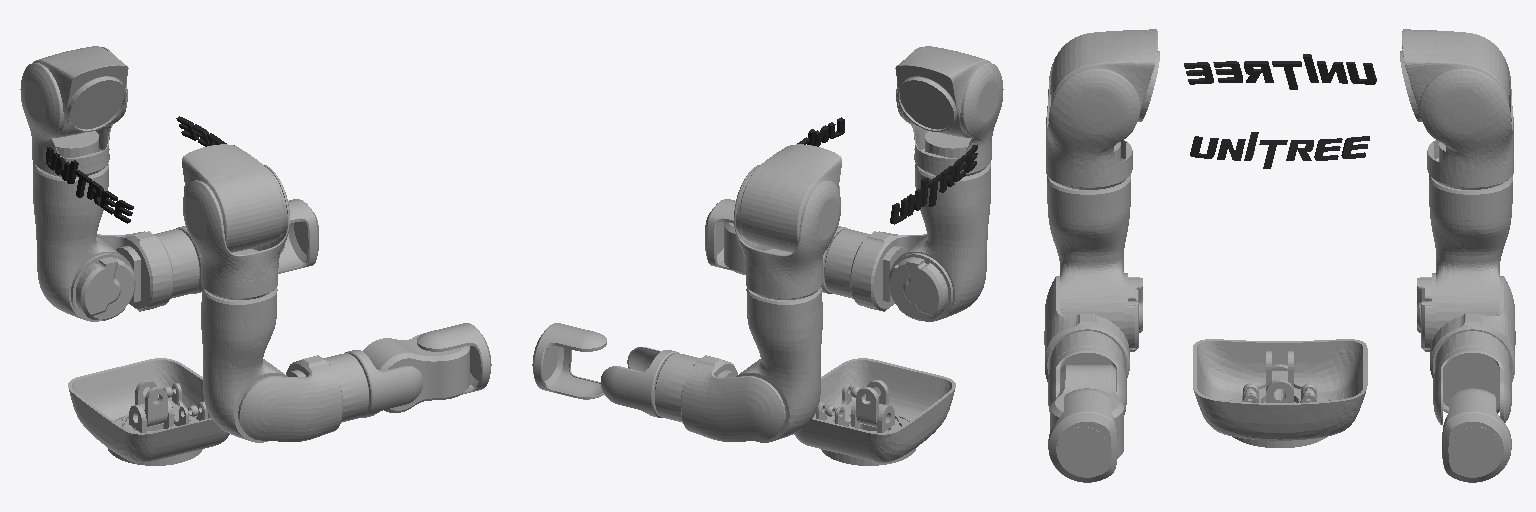
--- Render facts (derived) ---
3 views of the same robot in one strip: view 1: azimuth 30°, elevation 25°; view 2: azimuth 150°, elevation 25°; view 3: azimuth 270°, elevation 25° (orthographic).
Robot: g1_29dof — 26 links, 25 joints (7 revolute, 18 fixed); root link pelvis; default pose: all joints at 0.
Links seen in each view (by area): view 1: left_shoulder_yaw_link, waist_support_link, right_elbow_link, right_shoulder_yaw_link, right_shoulder_pitch_link, right_shoulder_roll_link, left_shoulder_pitch_link, left_elbow_link, left_shoulder_roll_link, right_wrist_pitch_link, right_wrist_roll_link, logo_link (+4 smaller); view 2: right_shoulder_yaw_link, waist_support_link, left_elbow_link, left_shoulder_yaw_link, left_shoulder_pitch_link, left_shoulder_roll_link, right_shoulder_pitch_link, right_shoulder_roll_link, right_elbow_link, left_wrist_yaw_link, left_wrist_roll_link, logo_link (+4 smaller); view 3: waist_support_link, right_shoulder_yaw_link, left_shoulder_yaw_link, left_shoulder_roll_link, right_shoulder_roll_link, logo_link, right_wrist_yaw_link, left_wrist_yaw_link, left_shoulder_pitch_link, right_shoulder_pitch_link, left_wrist_roll_link, left_elbow_link (+5 smaller).
Boxes of the visible links, box(x1,y1,x2,y2) form: left_shoulder_yaw_link: box(33, 162, 135, 321); waist_support_link: box(68, 358, 229, 462); right_elbow_link: box(238, 353, 368, 441); right_shoulder_yaw_link: box(201, 287, 287, 442); right_shoulder_pitch_link: box(182, 144, 283, 252); right_shoulder_roll_link: box(183, 165, 289, 299); left_shoulder_pitch_link: box(33, 46, 128, 137); left_elbow_link: box(97, 229, 199, 311); left_shoulder_roll_link: box(20, 47, 127, 176); right_wrist_pitch_link: box(363, 333, 469, 412); right_wrist_roll_link: box(345, 350, 422, 417); logo_link: box(46, 116, 234, 223); right_shoulder_yaw_link: box(888, 162, 990, 321); waist_support_link: box(794, 358, 955, 462); left_elbow_link: box(655, 353, 785, 441); left_shoulder_yaw_link: box(736, 287, 822, 442); left_shoulder_pitch_link: box(740, 144, 841, 252); left_shoulder_roll_link: box(734, 165, 840, 299); right_shoulder_pitch_link: box(895, 46, 990, 137); right_shoulder_roll_link: box(896, 47, 1003, 175); right_elbow_link: box(824, 229, 926, 311); left_wrist_yaw_link: box(532, 323, 606, 399); left_wrist_roll_link: box(601, 347, 678, 417); logo_link: box(797, 117, 977, 224); waist_support_link: box(1193, 339, 1367, 440); right_shoulder_yaw_link: box(1047, 175, 1142, 351); left_shoulder_yaw_link: box(1417, 175, 1512, 351); left_shoulder_roll_link: box(1420, 32, 1513, 189); right_shoulder_roll_link: box(1046, 32, 1139, 189); logo_link: box(1184, 54, 1376, 168); right_wrist_yaw_link: box(1048, 388, 1117, 482); left_wrist_yaw_link: box(1442, 388, 1511, 482); left_shoulder_pitch_link: box(1400, 29, 1509, 141); right_shoulder_pitch_link: box(1050, 29, 1159, 141); left_wrist_roll_link: box(1433, 347, 1511, 424); left_elbow_link: box(1430, 276, 1515, 381).
Bounding box of the posed robot: 0.3139 × 0.3632 × 0.3314 m (x, y, z).
17 mesh visuals loaded from 23 distinct referenced files (17 OBJ); not drawn: 6 (reference not matched to a file when rendering).

robot.urdf — g1_29dof:
<robot name="g1_29dof">
  <mujoco>
    <compiler meshdir="meshes" discardvisual="false"/>
  </mujoco>

  <!-- [CAUTION] uncomment when convert to mujoco -->
  <!-- <link name="world"></link>
  <joint name="floating_base_joint" type="floating">
    <parent link="world"/>
    <child link="pelvis"/>
  </joint> -->

  <link name="pelvis">
    <inertial>
      <origin xyz="0 0 -0.07605" rpy="0 0 0"/>
      <mass value="3.813"/>
      <inertia ixx="0.010549" ixy="0" ixz="2.1E-06" iyy="0.0093089" iyz="0" izz="0.0079184"/>
    </inertial>
    <visual>
      <origin xyz="0 0 0" rpy="0 0 0"/>
      <geometry>
        <mesh filename="meshes/pelvis.obj"/>
      </geometry>
      <material name="dark">
        <color rgba="0.2 0.2 0.2 1"/>
      </material>
    </visual>
  </link>
  <link name="pelvis_contour_link">
    <inertial>
      <origin xyz="0 0 0" rpy="0 0 0"/>
      <mass value="0.001"/>
      <inertia ixx="1e-7" ixy="0" ixz="0" iyy="1e-7" iyz="0" izz="1e-7"/>
    </inertial>
    <visual>
      <origin xyz="0 0 0" rpy="0 0 0"/>
      <geometry>
        <mesh filename="meshes/pelvis_contour_link.obj"/>
      </geometry>
      <material name="white">
        <color rgba="0.7 0.7 0.7 1"/>
      </material>
    </visual>
    <!-- <collision>
      <origin xyz="0 0 0" rpy="0 0 0"/>
      <geometry>
        <mesh filename="meshes/pelvis_contour_link.obj"/>
      </geometry>
    </collision> -->
  </link>
  <joint name="pelvis_contour_joint" type="fixed">
    <parent link="pelvis"/>
    <child link="pelvis_contour_link"/>
  </joint>

  <!-- Legs -->
  <!-- <link name="left_hip_pitch_link">
    <inertial>
      <origin xyz="0.002741 0.047791 -0.02606" rpy="0 0 0"/>
      <mass value="1.35"/>
      <inertia ixx="0.001811" ixy="3.68E-05" ixz="-3.44E-05" iyy="0.0014193" iyz="0.000171" izz="0.0012812"/>
    </inertial>
    <visual>
      <origin xyz="0 0 0" rpy="0 0 0"/>
      <geometry>
        <mesh filename="meshes/left_hip_pitch_link.obj"/>
      </geometry>
      <material name="dark">
        <color rgba="0.2 0.2 0.2 1"/>
      </material>
    </visual>
    <collision>
      <origin xyz="0 0 0" rpy="0 0 0"/>
      <geometry>
        <mesh filename="meshes/left_hip_pitch_link.obj"/>
      </geometry>
    </collision>
  </link>
  <joint name="left_hip_pitch_joint" type="revolute">
    <origin xyz="0 0.064452 -0.1027" rpy="0 0 0"/>
    <parent link="pelvis"/>
    <child link="left_hip_pitch_link"/>
    <axis xyz="0 1 0"/>
    <limit lower="-2.5307" upper="2.8798" effort="88" velocity="32"/>
  </joint>
  <link name="left_hip_roll_link">
    <inertial>
      <origin xyz="0.029812 -0.001045 -0.087934" rpy="0 0 0"/>
      <mass value="1.52"/>
      <inertia ixx="0.0023773" ixy="-3.8E-06" ixz="-0.0003908" iyy="0.0024123" iyz="1.84E-05" izz="0.0016595"/>
    </inertial>
    <visual>
      <origin xyz="0 0 0" rpy="0 0 0"/>
      <geometry>
        <mesh filename="meshes/left_hip_roll_link.obj"/>
      </geometry>
      <material name="white">
        <color rgba="0.7 0.7 0.7 1"/>
      </material>
    </visual>
    <collision>
      <origin xyz="0 0 0" rpy="0 0 0"/>
      <geometry>
        <mesh filename="meshes/left_hip_roll_link.obj"/>
      </geometry>
    </collision>
  </link>
  <joint name="left_hip_roll_joint" type="revolute">
    <origin xyz="0 0.052 -0.030465" rpy="0 -0.1749 0"/>
    <parent link="left_hip_pitch_link"/>
    <child link="left_hip_roll_link"/>
    <axis xyz="1 0 0"/>
    <limit lower="-0.5236" upper="2.9671" effort="88" velocity="32"/>
  </joint>
  <link name="left_hip_yaw_link">
    <inertial>
      <origin xyz="-0.057709 -0.010981 -0.15078" rpy="0 0 0"/>
      <mass value="1.702"/>
      <inertia ixx="0.0057774" ixy="-0.0005411" ixz="-0.0023948" iyy="0.0076124" iyz="-0.0007072" izz="0.003149"/>
    </inertial>
    <visual>
      <origin xyz="0 0 0" rpy="0 0 0"/>
      <geometry>
        <mesh filename="meshes/left_hip_yaw_link.obj"/>
      </geometry>
      <material name="white">
        <color rgba="0.7 0.7 0.7 1"/>
      </material>
    </visual>
    <collision>
      <origin xyz="0 0 0" rpy="0 0 0"/>
      <geometry>
        <mesh filename="meshes/left_hip_yaw_link.obj"/>
      </geometry>
    </collision>
  </link>
  <joint name="left_hip_yaw_joint" type="revolute">
    <origin xyz="0.025001 0 -0.12412" rpy="0 0 0"/>
    <parent link="left_hip_roll_link"/>
    <child link="left_hip_yaw_link"/>
    <axis xyz="0 0 1"/>
    <limit lower="-2.7576" upper="2.7576" effort="88" velocity="32"/>
  </joint>
  <link name="left_knee_link">
    <inertial>
      <origin xyz="0.005457 0.003964 -0.12074" rpy="0 0 0"/>
      <mass value="1.932"/>
      <inertia ixx="0.011329" ixy="4.82E-05" ixz="-4.49E-05" iyy="0.011277" iyz="-0.0007146" izz="0.0015168"/>
    </inertial>
    <visual>
      <origin xyz="0 0 0" rpy="0 0 0"/>
      <geometry>
        <mesh filename="meshes/left_knee_link.obj"/>
      </geometry>
      <material name="white">
        <color rgba="0.7 0.7 0.7 1"/>
      </material>
    </visual>
    <collision>
      <origin xyz="0 0 0" rpy="0 0 0"/>
      <geometry>
        <mesh filename="meshes/left_knee_link.obj"/>
      </geometry>
    </collision>
  </link>
  <joint name="left_knee_joint" type="revolute">
    <origin xyz="-0.078273 0.0021489 -0.17734" rpy="0 0.1749 0"/>
    <parent link="left_hip_yaw_link"/>
    <child link="left_knee_link"/>
    <axis xyz="0 1 0"/>
    <limit lower="-0.087267" upper="2.8798" effort="139" velocity="20"/>
  </joint>
  <link name="left_ankle_pitch_link">
    <inertial>
      <origin xyz="-0.007269 0 0.011137" rpy="0 0 0"/>
      <mass value="0.074"/>
      <inertia ixx="8.4E-06" ixy="0" ixz="-2.9E-06" iyy="1.89E-05" iyz="0" izz="1.26E-05"/>
    </inertial>
    <visual>
      <origin xyz="0 0 0" rpy="0 0 0"/>
      <geometry>
        <mesh filename="meshes/left_ankle_pitch_link.obj"/>
      </geometry>
      <material name="white">
        <color rgba="0.7 0.7 0.7 1"/>
      </material>
    </visual>
    <collision>
      <origin xyz="0 0 0" rpy="0 0 0"/>
      <geometry>
        <mesh filename="meshes/left_ankle_pitch_link.obj"/>
      </geometry>
    </collision>
  </link>
  <joint name="left_ankle_pitch_joint" type="revolute">
    <origin xyz="0 -9.4445E-05 -0.30001" rpy="0 0 0"/>
    <parent link="left_knee_link"/>
    <child link="left_ankle_pitch_link"/>
    <axis xyz="0 1 0"/>
    <limit lower="-0.87267" upper="0.5236" effort="50" velocity="37"/>
  </joint>
  <link name="left_ankle_roll_link">
    <inertial>
      <origin xyz="0.026505 0 -0.016425" rpy="0 0 0"/>
      <mass value="0.608"/>
      <inertia ixx="0.0002231" ixy="2E-07" ixz="8.91E-05" iyy="0.0016161" iyz="-1E-07" izz="0.0016667"/>
    </inertial>
    <visual>
      <origin xyz="0 0 0" rpy="0 0 0"/>
      <geometry>
        <mesh filename="meshes/left_ankle_roll_link.obj"/>
      </geometry>
      <material name="dark">
        <color rgba="0.2 0.2 0.2 1"/>
      </material>
    </visual>
    <collision>
      <origin xyz="-0.05 0.025 -0.03" rpy="0 0 0"/>
      <geometry>
        <sphere radius="0.005"/>
      </geometry>
    </collision>
    <collision>
      <origin xyz="-0.05 -0.025 -0.03" rpy="0 0 0"/>
      <geometry>
        <sphere radius="0.005"/>
      </geometry>
    </collision>
    <collision>
      <origin xyz="0.12 0.03 -0.03" rpy="0 0 0"/>
      <geometry>
        <sphere radius="0.005"/>
      </geometry>
    </collision>
    <collision>
      <origin xyz="0.12 -0.03 -0.03" rpy="0 0 0"/>
      <geometry>
        <sphere radius="0.005"/>
      </geometry>
    </collision>
  </link>
  <joint name="left_ankle_roll_joint" type="revolute">
    <origin xyz="0 0 -0.017558" rpy="0 0 0"/>
    <parent link="left_ankle_pitch_link"/>
    <child link="left_ankle_roll_link"/>
    <axis xyz="1 0 0"/>
    <limit lower="-0.2618" upper="0.2618" effort="50" velocity="37"/>
  </joint>
  <link name="right_hip_pitch_link">
    <inertial>
      <origin xyz="0.002741 -0.047791 -0.02606" rpy="0 0 0"/>
      <mass value="1.35"/>
      <inertia ixx="0.001811" ixy="-3.68E-05" ixz="-3.44E-05" iyy="0.0014193" iyz="-0.000171" izz="0.0012812"/>
    </inertial>
    <visual>
      <origin xyz="0 0 0" rpy="0 0 0"/>
      <geometry>
        <mesh filename="meshes/right_hip_pitch_link.obj"/>
      </geometry>
      <material name="dark">
        <color rgba="0.2 0.2 0.2 1"/>
      </material>
    </visual>
    <collision>
      <origin xyz="0 0 0" rpy="0 0 0"/>
      <geometry>
        <mesh filename="meshes/right_hip_pitch_link.obj"/>
      </geometry>
    </collision>
  </link>
  <joint name="right_hip_pitch_joint" type="revolute">
    <origin xyz="0 -0.064452 -0.1027" rpy="0 0 0"/>
    <parent link="pelvis"/>
    <child link="right_hip_pitch_link"/>
    <axis xyz="0 1 0"/>
    <limit lower="-2.5307" upper="2.8798" effort="88" velocity="32"/>
  </joint>
  <link name="right_hip_roll_link">
    <inertial>
      <origin xyz="0.029812 0.001045 -0.087934" rpy="0 0 0"/>
      <mass value="1.52"/>
      <inertia ixx="0.0023773" ixy="3.8E-06" ixz="-0.0003908" iyy="0.0024123" iyz="-1.84E-05" izz="0.0016595"/>
    </inertial>
    <visual>
      <origin xyz="0 0 0" rpy="0 0 0"/>
      <geometry>
        <mesh filename="meshes/right_hip_roll_link.obj"/>
      </geometry>
      <material name="white">
        <color rgba="0.7 0.7 0.7 1"/>
      </material>
    </visual>
    <collision>
      <origin xyz="0 0 0" rpy="0 0 0"/>
      <geometry>
        <mesh filename="meshes/right_hip_roll_link.obj"/>
      </geometry>
    </collision>
  </link>
  <joint name="right_hip_roll_joint" type="revolute">
    <origin xyz="0 -0.052 -0.030465" rpy="0 -0.1749 0"/>
    <parent link="right_hip_pitch_link"/>
    <child link="right_hip_roll_link"/>
    <axis xyz="1 0 0"/>
    <limit lower="-2.9671" upper="0.5236" effort="88" velocity="32"/>
  </joint>
  <link name="right_hip_yaw_link">
    <inertial>
      <origin xyz="-0.057709 0.010981 -0.15078" rpy="0 0 0"/>
      <mass value="1.702"/>
      <inertia ixx="0.0057774" ixy="0.0005411" ixz="-0.0023948" iyy="0.0076124" iyz="0.0007072" izz="0.003149"/>
    </inertial>
    <visual>
      <origin xyz="0 0 0" rpy="0 0 0"/>
      <geometry>
        <mesh filename="meshes/right_hip_yaw_link.obj"/>
      </geometry>
      <material name="white">
        <color rgba="0.7 0.7 0.7 1"/>
      </material>
    </visual>
    <collision>
      <origin xyz="0 0 0" rpy="0 0 0"/>
      <geometry>
        <mesh filename="meshes/right_hip_yaw_link.obj"/>
      </geometry>
    </collision>
  </link>
  <joint name="right_hip_yaw_joint" type="revolute">
    <origin xyz="0.025001 0 -0.12412" rpy="0 0 0"/>
    <parent link="right_hip_roll_link"/>
    <child link="right_hip_yaw_link"/>
    <axis xyz="0 0 1"/>
    <limit lower="-2.7576" upper="2.7576" effort="88" velocity="32"/>
  </joint>
  <link name="right_knee_link">
    <inertial>
      <origin xyz="0.005457 -0.003964 -0.12074" rpy="0 0 0"/>
      <mass value="1.932"/>
      <inertia ixx="0.011329" ixy="-4.82E-05" ixz="4.49E-05" iyy="0.011277" iyz="0.0007146" izz="0.0015168"/>
    </inertial>
    <visual>
      <origin xyz="0 0 0" rpy="0 0 0"/>
      <geometry>
        <mesh filename="meshes/right_knee_link.obj"/>
      </geometry>
      <material name="white">
        <color rgba="0.7 0.7 0.7 1"/>
      </material>
    </visual>
    <collision>
      <origin xyz="0 0 0" rpy="0 0 0"/>
      <geometry>
        <mesh filename="meshes/right_knee_link.obj"/>
      </geometry>
    </collision>
  </link>
  <joint name="right_knee_joint" type="revolute">
    <origin xyz="-0.078273 -0.0021489 -0.17734" rpy="0 0.1749 0"/>
    <parent link="right_hip_yaw_link"/>
    <child link="right_knee_link"/>
    <axis xyz="0 1 0"/>
    <limit lower="-0.087267" upper="2.8798" effort="139" velocity="20"/>
  </joint>
  <link name="right_ankle_pitch_link">
    <inertial>
      <origin xyz="-0.007269 0 0.011137" rpy="0 0 0"/>
      <mass value="0.074"/>
      <inertia ixx="8.4E-06" ixy="0" ixz="-2.9E-06" iyy="1.89E-05" iyz="0" izz="1.26E-05"/>
    </inertial>
    <visual>
      <origin xyz="0 0 0" rpy="0 0 0"/>
      <geometry>
        <mesh filename="meshes/right_ankle_pitch_link.obj"/>
      </geometry>
      <material name="white">
        <color rgba="0.7 0.7 0.7 1"/>
      </material>
    </visual>
    <collision>
      <origin xyz="0 0 0" rpy="0 0 0"/>
      <geometry>
        <mesh filename="meshes/right_ankle_pitch_link.obj"/>
      </geometry>
    </collision>
  </link>
  <joint name="right_ankle_pitch_joint" type="revolute">
    <origin xyz="0 9.4445E-05 -0.30001" rpy="0 0 0"/>
    <parent link="right_knee_link"/>
    <child link="right_ankle_pitch_link"/>
    <axis xyz="0 1 0"/>
    <limit lower="-0.87267" upper="0.5236" effort="50" velocity="37"/>
  </joint>
  <link name="right_ankle_roll_link">
    <inertial>
      <origin xyz="0.026505 0 -0.016425" rpy="0 0 0"/>
      <mass value="0.608"/>
      <inertia ixx="0.0002231" ixy="-2E-07" ixz="8.91E-05" iyy="0.0016161" iyz="1E-07" izz="0.0016667"/>
    </inertial>
    <visual>
      <origin xyz="0 0 0" rpy="0 0 0"/>
      <geometry>
        <mesh filename="meshes/right_ankle_roll_link.obj"/>
      </geometry>
      <material name="dark">
        <color rgba="0.2 0.2 0.2 1"/>
      </material>
    </visual>
    <collision>
      <origin xyz="-0.05 0.025 -0.03" rpy="0 0 0"/>
      <geometry>
        <sphere radius="0.005"/>
      </geometry>
    </collision>
    <collision>
      <origin xyz="-0.05 -0.025 -0.03" rpy="0 0 0"/>
      <geometry>
        <sphere radius="0.005"/>
      </geometry>
    </collision>
    <collision>
      <origin xyz="0.12 0.03 -0.03" rpy="0 0 0"/>
      <geometry>
        <sphere radius="0.005"/>
      </geometry>
    </collision>
    <collision>
      <origin xyz="0.12 -0.03 -0.03" rpy="0 0 0"/>
      <geometry>
        <sphere radius="0.005"/>
      </geometry>
    </collision>
  </link>
  <joint name="right_ankle_roll_joint" type="revolute">
    <origin xyz="0 0 -0.017558" rpy="0 0 0"/>
    <parent link="right_ankle_pitch_link"/>
    <child link="right_ankle_roll_link"/>
    <axis xyz="1 0 0"/>
    <limit lower="-0.2618" upper="0.2618" effort="50" velocity="37"/>
  </joint> -->

  <!-- Torso (change 3 dof joint to fixed)--> 
  <link name="waist_yaw_link">
    <inertial>
      <origin xyz="0.003964 0 0.018769" rpy="0 0 0"/>
      <mass value="0.244"/>
      <inertia ixx="9.9587E-05" ixy="-1.833E-06" ixz="-1.2617E-05" iyy="0.00012411" iyz="-1.18E-07" izz="0.00015586"/>
    </inertial>
    <visual>
      <origin xyz="0 0 0" rpy="0 0 0"/>
      <geometry>
        <mesh filename="meshes/waist_yaw_link.obj"/>
      </geometry>
      <material name="white">
        <color rgba="0.7 0.7 0.7 1"/>
      </material>
    </visual>
  </link>
  <joint name="waist_yaw_joint" type="fixed">
    <origin xyz="0 0 0" rpy="0 0 0"/>
    <parent link="pelvis"/>
    <child link="waist_yaw_link"/>
    <axis xyz="0 0 1"/>
    <limit lower="-2.618" upper="2.618" effort="88" velocity="32"/>
  </joint>
  <link name="waist_roll_link">
    <inertial>
      <origin xyz="0 -0.000236 0.010111" rpy="0 0 0"/>
      <mass value="0.047"/>
      <inertia ixx="7.515E-06" ixy="0" ixz="0" iyy="6.398E-06" iyz="9.9E-08" izz="3.988E-06"/>
    </inertial>
    <visual>
      <origin xyz="0 0 0" rpy="0 0 0"/>
      <geometry>
        <mesh filename="meshes/waist_roll_link.obj"/>
      </geometry>
      <material name="white">
        <color rgba="0.7 0.7 0.7 1"/>
      </material>
    </visual>
  </link>
  <joint name="waist_roll_joint" type="fixed">
    <origin xyz="-0.0039635 0 0.035" rpy="0 0 0"/>
    <parent link="waist_yaw_link"/>
    <child link="waist_roll_link"/>
    <axis xyz="1 0 0"/>
    <limit lower="-0.52" upper="0.52" effort="50" velocity="37"/>
  </joint>
  <link name="torso_link">
    <inertial>
      <origin xyz="0.002601 0.000257 0.153719" rpy="0 0 0"/>
      <mass value="8.562"/>
      <inertia ixx="0.065674966" ixy="-8.597E-05" ixz="-0.001737252" iyy="0.053535188" iyz="8.6899E-05" izz="0.030808125"/>
    </inertial>
    <visual>
      <origin xyz="0 0 0" rpy="0 0 0"/>
      <geometry>
        <mesh filename="meshes/torso_link.obj"/>
      </geometry>
      <material name="white">
        <color rgba="0.7 0.7 0.7 1"/>
      </material>
    </visual>
    <!-- <collision>
      <origin xyz="0 0 0" rpy="0 0 0"/>
      <geometry>
        <mesh filename="meshes/torso_link.obj"/>
      </geometry>
    </collision> -->
  </link>
  <joint name="waist_pitch_joint" type="fixed">
    <origin xyz="0 0 0.019" rpy="0 0 0"/>
    <parent link="waist_roll_link"/>
    <child link="torso_link"/>
    <axis xyz="0 1 0"/>
    <limit lower="-0.52" upper="0.52" effort="50" velocity="37"/>
  </joint>

  <!-- LOGO -->
  <joint name="logo_joint" type="fixed">
    <origin xyz="0.0039635 0 -0.054" rpy="0 0 0"/>
    <parent link="torso_link"/>
    <child link="logo_link"/>
  </joint>
  <link name="logo_link">
    <inertial>
      <origin xyz="0 0 0" rpy="0 0 0"/>
      <mass value="0.001"/>
      <inertia ixx="1e-7" ixy="0" ixz="0" iyy="1e-7" iyz="0" izz="1e-7"/>
    </inertial>
    <visual>
      <origin xyz="0 0 0" rpy="0 0 0"/>
      <geometry>
        <mesh filename="meshes/logo_link.obj"/>
      </geometry>
      <material name="dark">
        <color rgba="0.2 0.2 0.2 1"/>
      </material>
    </visual>
    <!-- <collision>
      <origin xyz="0 0 0" rpy="0 0 0"/>
      <geometry>
        <mesh filename="meshes/logo_link.obj"/>
      </geometry>
    </collision> -->
  </link>

  <!-- Head -->
  <link name="head_link">
    <inertial>
      <origin xyz="0.005267 0.000299 0.449869" rpy="0 0 0"/>
      <mass value="1.036"/>
      <inertia ixx="0.004085051" ixy="-2.543E-06" ixz="-6.9455E-05" iyy="0.004185212" iyz="-3.726E-06" izz="0.001807911"/>
    </inertial>
    <visual>
      <origin xyz="0 0 0" rpy="0 0 0"/>
      <geometry>
        <mesh filename="meshes/head_link.obj"/>
      </geometry>
      <material name="dark">
        <color rgba="0.2 0.2 0.2 1"/>
      </material>
    </visual>
    <!-- <collision>
      <origin xyz="0 0 0" rpy="0 0 0"/>
      <geometry>
        <mesh filename="meshes/head_link.obj"/>
      </geometry>
    </collision> -->
  </link>
  <joint name="head_joint" type="fixed">
    <origin xyz="0.0039635 0 -0.054" rpy="0 0 0"/>
    <parent link="torso_link"/>
    <child link="head_link"/>
  </joint>

  <!-- Waist Support -->
  <link name="waist_support_link">
    <inertial>
      <origin xyz="0 0 0" rpy="0 0 0"/>
      <mass value="0.001"/>
      <inertia ixx="1e-7" ixy="0" ixz="0" iyy="1e-7" iyz="0" izz="1e-7"/>
    </inertial>
    <visual>
      <origin xyz="0 0 0" rpy="0 0 0"/>
      <geometry>
        <mesh filename="meshes/waist_support_link.obj"/>
      </geometry>
      <material name="white">
        <color rgba="0.7 0.7 0.7 1"/>
      </material>
    </visual>
    <!-- <collision>
      <origin xyz="0 0 0" rpy="0 0 0"/>
      <geometry>
        <mesh filename="meshes/waist_support_link.obj"/>
      </geometry>
    </collision> -->
  </link>
  <joint name="waist_support_joint" type="fixed">
    <origin xyz="0.0039635 0 -0.054" rpy="0 0 0"/>
    <parent link="torso_link"/>
    <child link="waist_support_link"/>
  </joint>

  <!-- IMU -->
  <link name="imu_link"></link>
  <joint name="imu_joint" type="fixed">
    <origin xyz="-0.03959 -0.00224 0.13792" rpy="0 0 0"/>
    <parent link="torso_link"/>
    <child link="imu_link"/>
  </joint>

  <!-- d435 -->
  <link name="d435_link"></link>
  <joint name="d435_joint" type="fixed">
    <origin xyz="0.0576235 0.01753 0.41987" rpy="0 0.8307767239493009 0"/>
    <parent link="torso_link"/>
    <child link="d435_link"/>
  </joint>

  <!-- mid360 -->
  <link name="mid360_link"></link>
  <joint name="mid360_joint" type="fixed">
    <origin xyz="0.0002835 0.00003 0.40618" rpy="0 0.04014257279586953 0"/>
    <parent link="torso_link"/>
    <child link="mid360_link"/>
  </joint>
  <link name="left_shoulder_pitch_link">
    <inertial>
      <origin xyz="0 0.035892 -0.011628" rpy="0 0 0"/>
      <mass value="0.718"/>
      <inertia ixx="0.0004291" ixy="-9.2E-06" ixz="6.4E-06" iyy="0.000453" iyz="2.26E-05" izz="0.000423"/>
    </inertial>
    <visual>
      <origin xyz="0 0 0" rpy="0 0 0"/>
      <geometry>
        <mesh filename="meshes/left_shoulder_pitch_link.obj"/>
      </geometry>
      <material name="white">
        <color rgba="0.7 0.7 0.7 1"/>
      </material>
    </visual>
    <collision>
      <origin xyz="0 0.04 -0.01" rpy="0 1.5707963267948966 0"/>
      <geometry>
        <cylinder radius="0.03" length="0.05"/>
      </geometry>
    </collision>
  </link>
  <joint name="left_shoulder_pitch_joint" type="fixed">
    <origin xyz="0.0039563 0.10022 0.23778" rpy="0.27931 5.4949E-05 -0.00019159"/>
    <parent link="torso_link"/>
    <child link="left_shoulder_pitch_link"/>
    <axis xyz="0 1 0"/>
    <limit lower="-3.0892" upper="2.6704" effort="25" velocity="37"/>
  </joint>
  <link name="left_shoulder_roll_link">
    <inertial>
      <origin xyz="-0.000227 0.00727 -0.063243" rpy="0 0 0"/>
      <mass value="0.643"/>
      <inertia ixx="0.0006177" ixy="-1E-06" ixz="8.7E-06" iyy="0.0006912" iyz="-5.3E-06" izz="0.0003894"/>
    </inertial>
    <visual>
      <origin xyz="0 0 0" rpy="0 0 0"/>
      <geometry>
        <mesh filename="meshes/left_shoulder_roll_link.obj"/>
      </geometry>
      <material name="white">
        <color rgba="0.7 0.7 0.7 1"/>
      </material>
    </visual>
    <collision>
      <origin xyz="-0.004 0.006 -0.053" rpy="0 0 0"/>
      <geometry>
        <cylinder radius="0.03" length="0.03"/>
      </geometry>
    </collision>
  </link>
  <joint name="left_shoulder_roll_joint" type="fixed">
    <origin xyz="0 0.038 -0.013831" rpy="-0.27925 0 0"/>
    <parent link="left_shoulder_pitch_link"/>
    <child link="left_shoulder_roll_link"/>
    <axis xyz="1 0 0"/>
    <limit lower="-1.5882" upper="2.2515" effort="25" velocity="37"/>
  </joint>
  <link name="left_shoulder_yaw_link">
    <inertial>
      <origin xyz="0.010773 -0.002949 -0.072009" rpy="0 0 0"/>
      <mass value="0.734"/>
      <inertia ixx="0.0009988" ixy="7.9E-06" ixz="0.0001412" iyy="0.0010605" iyz="-2.86E-05" izz="0.0004354"/>
    </inertial>
    <visual>
      <origin xyz="0 0 0" rpy="0 0 0"/>
      <geometry>
        <mesh filename="meshes/left_shoulder_yaw_link.obj"/>
      </geometry>
      <material name="white">
        <color rgba="0.7 0.7 0.7 1"/>
      </material>
    </visual>
    <collision>
      <origin xyz="0 0 0" rpy="0 0 0"/>
      <geometry>
        <mesh filename="meshes/left_shoulder_yaw_link.obj"/>
      </geometry>
    </collision>
  </link>
  <joint name="left_shoulder_yaw_joint" type="fixed">
    <origin xyz="0 0.00624 -0.1032" rpy="0 0 0"/>
    <parent link="left_shoulder_roll_link"/>
    <child link="left_shoulder_yaw_link"/>
    <axis xyz="0 0 1"/>
    <limit lower="-2.618" upper="2.618" effort="25" velocity="37"/>
  </joint>
  <link name="left_elbow_link">
    <inertial>
      <origin xyz="0.064956 0.004454 -0.010062" rpy="0 0 0"/>
      <mass value="0.6"/>
      <inertia ixx="0.0002891" ixy="6.53E-05" ixz="1.72E-05" iyy="0.0004152" iyz="-5.6E-06" izz="0.0004197"/>
    </inertial>
    <visual>
      <origin xyz="0 0 0" rpy="0 0 0"/>
      <geometry>
        <mesh filename="meshes/left_elbow_link.obj"/>
      </geometry>
      <material name="white">
        <color rgba="0.7 0.7 0.7 1"/>
      </material>
    </visual>
    <collision>
      <origin xyz="0 0 0" rpy="0 0 0"/>
      <geometry>
        <mesh filename="meshes/left_elbow_link.obj"/>
      </geometry>
    </collision>
  </link>
  <joint name="left_elbow_joint" type="fixed">
    <origin xyz="0.015783 0 -0.080518" rpy="0 0 0"/>
    <parent link="left_shoulder_yaw_link"/>
    <child link="left_elbow_link"/>
    <axis xyz="0 1 0"/>
    <limit lower="-1.0472" upper="2.0944" effort="25" velocity="37"/>
  </joint>
  <joint name="left_wrist_roll_joint" type="fixed">
    <origin xyz="0.100 0.00188791 -0.010" rpy="0 0 0"/>
    <axis xyz="1 0 0"/>
    <parent link="left_elbow_link"/>
    <child link="left_wrist_roll_link"/>
    <limit effort="25" velocity="37" lower="-1.972222054" upper="1.972222054"/>
  </joint>
  <link name="left_wrist_roll_link">
    <inertial>
      <origin xyz="0.01713944778 0.00053759094 0.00000048864" rpy="0 0 0"/>
      <mass value="0.08544498"/>
      <inertia ixx="0.00004821544023" ixy="-0.00000424511021" ixz="0.00000000510599" iyy="0.00003722899093" iyz="-0.00000000123525" izz="0.00005482106541"/>
    </inertial>
    <visual>
      <origin xyz="0 0 0" rpy="0 0 0"/>
      <geometry>
        <mesh filename="meshes/left_wrist_roll_link.obj"/>
      </geometry>
      <material name="white">
        <color rgba="0.7 0.7 0.7 1"/>
      </material>
    </visual>
    <collision>
      <origin xyz="0 0 0" rpy="0 0 0"/>
      <geometry>
        <mesh filename="meshes/left_wrist_roll_link.obj"/>
      </geometry>
    </collision>
  </link>
  <joint name="left_wrist_pitch_joint" type="fixed">
    <origin xyz="0.038 0 0" rpy="0 0 0"/>
    <axis xyz="0 1 0"/>
    <parent link="left_wrist_roll_link"/>
    <child link="left_wrist_pitch_link"/>
    <limit effort="5" velocity="22" lower="-1.614429558" upper="1.614429558"/>
  </joint>
  <link name="left_wrist_pitch_link">
    <inertial>
      <origin xyz="0.02299989837 -0.00111685314 -0.00111658096" rpy="0 0 0"/>
      <mass value="0.48404956"/>
      <inertia ixx="0.00016579646273" ixy="-0.00001231206746" ixz="0.00001231699194" iyy="0.00042954057410" iyz="0.00000081417712" izz="0.00042953697654"/>
    </inertial>
    <visual>
      <origin xyz="0 0 0" rpy="0 0 0"/>
      <geometry>
        <mesh filename="meshes/left_wrist_pitch_link.obj"/>
      </geometry>
      <material name="white">
        <color rgba="0.7 0.7 0.7 1"/>
      </material>
    </visual>
    <collision>
      <origin xyz="0 0 0" rpy="0 0 0"/>
      <geometry>
        <mesh filename="meshes/left_wrist_pitch_link.obj"/>
      </geometry>
    </collision>
  </link>
  <joint name="left_wrist_yaw_joint" type="fixed">
    <origin xyz="0.046 0 0" rpy="0 0 0"/>
    <axis xyz="0 0 1"/>
    <parent link="left_wrist_pitch_link"/>
    <child link="left_wrist_yaw_link"/>
    <limit effort="5" velocity="22" lower="-1.614429558" upper="1.614429558"/>
  </joint>
  <link name="left_wrist_yaw_link">
    <inertial>
      <origin xyz="0.02200381568 0.00049485096 0.00053861123" rpy="0 0 0"/>
      <mass value="0.08457647"/>
      <inertia ixx="0.00004929128828" ixy="-0.00000045735494" ixz="0.00000445867591" iyy="0.00005973338134" iyz="0.00000043217198" izz="0.00003928083826"/>
    </inertial>
    <visual>
      <origin xyz="0 0 0" rpy="0 0 0"/>
      <geometry>
        <mesh filename="meshes/left_wrist_yaw_link.obj"/>
      </geometry>
      <material name="white">
        <color rgba="0.7 0.7 0.7 1"/>
      </material>
    </visual>
    <collision>
      <origin xyz="0 0 0" rpy="0 0 0"/>
      <geometry>
        <mesh filename="meshes/left_wrist_yaw_link.obj"/>
      </geometry>
    </collision>
  </link>
  <joint name="left_hand_palm_joint" type="fixed">
    <origin xyz="0.0415 0.003 0" rpy="0 0 0"/>
    <parent link="left_wrist_yaw_link"/>
    <child link="left_rubber_hand"/>
  </joint>
  <link name="left_rubber_hand">
    <inertial>
      <origin xyz="0.05361310808 -0.00295905240 0.00215413091" rpy="0 0 0"/>
      <mass value="0.170"/>
      <inertia ixx="0.00010099485234748" ixy="0.00003618590790516" ixz="-0.00000074301518642" iyy="0.00028135871571621" iyz="0.00000330189743286" izz="0.00021894770413514"/>
    </inertial>
    <visual>
      <origin xyz="0 0 0" rpy="0 0 0"/>
      <geometry>
        <mesh filename="meshes/left_rubber_hand.obj"/>
      </geometry>
      <material name="white">
        <color rgba="0.7 0.7 0.7 1"/>
      </material>
    </visual>
  </link>







  <link name="right_shoulder_pitch_link">
    <inertial>
      <origin xyz="0 -0.035892 -0.011628" rpy="0 0 0"/>
      <mass value="0.718"/>
      <inertia ixx="0.0004291" ixy="9.2E-06" ixz="6.4E-06" iyy="0.000453" iyz="-2.26E-05" izz="0.000423"/>
    </inertial>
    <visual>
      <origin xyz="0 0 0" rpy="0 0 0"/>
      <geometry>
        <mesh filename="meshes/right_shoulder_pitch_link.obj"/>
      </geometry>
      <material name="white">
        <color rgba="0.7 0.7 0.7 1"/>
      </material>
    </visual>
    <collision>
      <origin xyz="0 -0.04 -0.01" rpy="0 1.5707963267948966 0"/>
      <geometry>
        <cylinder radius="0.03" length="0.05"/>
      </geometry>
    </collision>
  </link>
  <joint name="right_shoulder_pitch_joint" type="revolute">
    <origin xyz="0.0039563 -0.10021 0.23778" rpy="-0.27931 5.4949E-05 0.00019159"/>
    <parent link="torso_link"/>
    <child link="right_shoulder_pitch_link"/>
    <axis xyz="0 1 0"/>
    <limit lower="-3.0892" upper="2.6704" effort="25" velocity="37"/>
  </joint>
  <link name="right_shoulder_roll_link">
    <inertial>
      <origin xyz="-0.000227 -0.00727 -0.063243" rpy="0 0 0"/>
      <mass value="0.643"/>
      <inertia ixx="0.0006177" ixy="1E-06" ixz="8.7E-06" iyy="0.0006912" iyz="5.3E-06" izz="0.0003894"/>
    </inertial>
    <visual>
      <origin xyz="0 0 0" rpy="0 0 0"/>
      <geometry>
        <mesh filename="meshes/right_shoulder_roll_link.obj"/>
      </geometry>
      <material name="white">
        <color rgba="0.7 0.7 0.7 1"/>
      </material>
    </visual>
    <collision>
      <origin xyz="-0.004 -0.006 -0.053" rpy="0 0 0"/>
      <geometry>
        <cylinder radius="0.03" length="0.03"/>
      </geometry>
    </collision>
  </link>
  <joint name="right_shoulder_roll_joint" type="revolute">
    <origin xyz="0 -0.038 -0.013831" rpy="0.27925 0 0"/>
    <parent link="right_shoulder_pitch_link"/>
    <child link="right_shoulder_roll_link"/>
    <axis xyz="1 0 0"/>
    <limit lower="-2.2515" upper="1.5882" effort="25" velocity="37"/>
  </joint>
  <link name="right_shoulder_yaw_link">
    <inertial>
      <origin xyz="0.010773 0.002949 -0.072009" rpy="0 0 0"/>
      <mass value="0.734"/>
      <inertia ixx="0.0009988" ixy="-7.9E-06" ixz="0.0001412" iyy="0.0010605" iyz="2.86E-05" izz="0.0004354"/>
    </inertial>
    <visual>
      <origin xyz="0 0 0" rpy="0 0 0"/>
      <geometry>
        <mesh filename="meshes/right_shoulder_yaw_link.obj"/>
      </geometry>
      <material name="white">
        <color rgba="0.7 0.7 0.7 1"/>
      </material>
    </visual>
    <collision>
      <origin xyz="0 0 0" rpy="0 0 0"/>
      <geometry>
        <mesh filename="meshes/right_shoulder_yaw_link.obj"/>
      </geometry>
    </collision>
  </link>
  <joint name="right_shoulder_yaw_joint" type="revolute">
    <origin xyz="0 -0.00624 -0.1032" rpy="0 0 0"/>
    <parent link="right_shoulder_roll_link"/>
    <child link="right_shoulder_yaw_link"/>
    <axis xyz="0 0 1"/>
    <limit lower="-2.618" upper="2.618" effort="25" velocity="37"/>
  </joint>
  <link name="right_elbow_link">
    <inertial>
      <origin xyz="0.064956 -0.004454 -0.010062" rpy="0 0 0"/>
      <mass value="0.6"/>
      <inertia ixx="0.0002891" ixy="-6.53E-05" ixz="1.72E-05" iyy="0.0004152" iyz="5.6E-06" izz="0.0004197"/>
    </inertial>
    <visual>
      <origin xyz="0 0 0" rpy="0 0 0"/>
      <geometry>
        <mesh filename="meshes/right_elbow_link.obj"/>
      </geometry>
      <material name="white">
        <color rgba="0.7 0.7 0.7 1"/>
      </material>
    </visual>
    <collision>
      <origin xyz="0 0 0" rpy="0 0 0"/>
      <geometry>
        <mesh filename="meshes/right_elbow_link.obj"/>
      </geometry>
    </collision>
  </link>
  <joint name="right_elbow_joint" type="revolute">
    <origin xyz="0.015783 0 -0.080518" rpy="0 0 0"/>
    <parent link="right_shoulder_yaw_link"/>
    <child link="right_elbow_link"/>
    <axis xyz="0 1 0"/>
    <limit lower="-1.0472" upper="2.0944" effort="25" velocity="37"/>
  </joint>
  <joint name="right_wrist_roll_joint" type="revolute">
    <origin xyz="0.100 -0.00188791 -0.010" rpy="0 0 0"/>
    <axis xyz="1 0 0"/>
    <parent link="right_elbow_link"/>
    <child link="right_wrist_roll_link"/>
    <limit effort="25" velocity="37" lower="-1.972222054" upper="1.972222054"/>
  </joint>
  <link name="right_wrist_roll_link">
    <inertial>
      <origin xyz="0.01713944778 -0.00053759094 0.00000048864" rpy="0 0 0"/>
      <mass value="0.08544498"/>
      <inertia ixx="0.00004821544023" ixy="0.00000424511021" ixz="0.00000000510599" iyy="0.00003722899093" iyz="0.00000000123525" izz="0.00005482106541"/>
    </inertial>
    <visual>
      <origin xyz="0 0 0" rpy="0 0 0"/>
      <geometry>
        <mesh filename="meshes/right_wrist_roll_link.obj"/>
      </geometry>
      <material name="white">
        <color rgba="0.7 0.7 0.7 1"/>
      </material>
    </visual>
    <collision>
      <origin xyz="0 0 0" rpy="0 0 0"/>
      <geometry>
        <mesh filename="meshes/right_wrist_roll_link.obj"/>
      </geometry>
    </collision>
  </link>
  <joint name="right_wrist_pitch_joint" type="revolute">
    <origin xyz="0.038 0 0" rpy="0 0 0"/>
    <axis xyz="0 1 0"/>
    <parent link="right_wrist_roll_link"/>
    <child link="right_wrist_pitch_link"/>
    <limit effort="5" velocity="22" lower="-1.614429558" upper="1.614429558"/>
  </joint>
  <link name="right_wrist_pitch_link">
    <inertial>
      <origin xyz="0.02299989837 0.00111685314 -0.00111658096" rpy="0 0 0"/>
      <mass value="0.48404956"/>
      <inertia ixx="0.00016579646273" ixy="0.00001231206746" ixz="0.00001231699194" iyy="0.00042954057410" iyz="-0.00000081417712" izz="0.00042953697654"/>
    </inertial>
    <visual>
      <origin xyz="0 0 0" rpy="0 0 0"/>
      <geometry>
        <mesh filename="meshes/right_wrist_pitch_link.obj"/>
      </geometry>
      <material name="white">
        <color rgba="0.7 0.7 0.7 1"/>
      </material>
    </visual>
    <collision>
      <origin xyz="0 0 0" rpy="0 0 0"/>
      <geometry>
        <mesh filename="meshes/right_wrist_pitch_link.obj"/>
      </geometry>
    </collision>
  </link>
  <joint name="right_wrist_yaw_joint" type="revolute">
    <origin xyz="0.046 0 0" rpy="0 0 0"/>
    <axis xyz="0 0 1"/>
    <parent link="right_wrist_pitch_link"/>
    <child link="right_wrist_yaw_link"/>
    <limit effort="5" velocity="22" lower="-1.614429558" upper="1.614429558"/>
  </joint>
  <link name="right_wrist_yaw_link">
    <inertial>
      <origin xyz="0.02200381568 -0.00049485096 0.00053861123" rpy="0 0 0"/>
      <mass value="0.08457647"/>
      <inertia ixx="0.00004929128828" ixy="0.00000045735494" ixz="0.00000445867591" iyy="0.00005973338134" iyz="-0.00000043217198" izz="0.00003928083826"/>
    </inertial>
    <visual>
      <origin xyz="0 0 0" rpy="0 0 0"/>
      <geometry>
        <mesh filename="meshes/right_wrist_yaw_link.obj"/>
      </geometry>
      <material name="white">
        <color rgba="0.7 0.7 0.7 1"/>
      </material>
    </visual>
    <collision>
      <origin xyz="0 0 0" rpy="0 0 0"/>
      <geometry>
        <mesh filename="meshes/right_wrist_yaw_link.obj"/>
      </geometry>
    </collision>
  </link>

<!-- right arm -->
<transmission type="SimpleTransmission" name="right_shoulder_pitch_joint">
  <actuator name="right_shoulder_pitch_joint"/>
  <joint name="right_shoulder_pitch_joint"/>
</transmission>
<transmission type="SimpleTransmission" name="right_shoulder_roll_joint_trans">
  <actuator name="right_shoulder_roll_joint"/>
  <joint name="right_shoulder_roll_joint"/>
</transmission>
<transmission type="SimpleTransmission" name="right_shoulder_yaw_joint_trans">
  <actuator name="right_shoulder_yaw_joint"/>
  <joint name="right_shoulder_yaw_joint"/>
</transmission>
<transmission type="SimpleTransmission" name="right_elbow_joint_trans">
  <actuator name="right_elbow_joint"/>
  <joint name="right_elbow_joint"/>
</transmission>
<transmission type="SimpleTransmission" name="right_wrist_roll_joint_trans">
  <actuator name="right_wrist_roll_joint"/>
  <joint name="right_wrist_roll_joint"/>
</transmission>
<transmission type="SimpleTransmission" name="right_wrist_pitch_joint_trans">
  <actuator name="right_wrist_pitch_joint"/>
  <joint name="right_wrist_pitch_joint"/>
</transmission>
<transmission type="SimpleTransmission" name="right_wrist_yaw_joint_trans">
  <actuator name="right_wrist_yaw_joint"/>
  <joint name="right_wrist_yaw_joint"/>
</transmission>

</robot>
